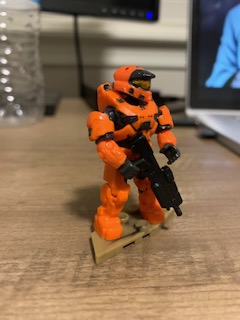rifle: (126, 135, 184, 220)
spartan: (85, 60, 181, 240)
